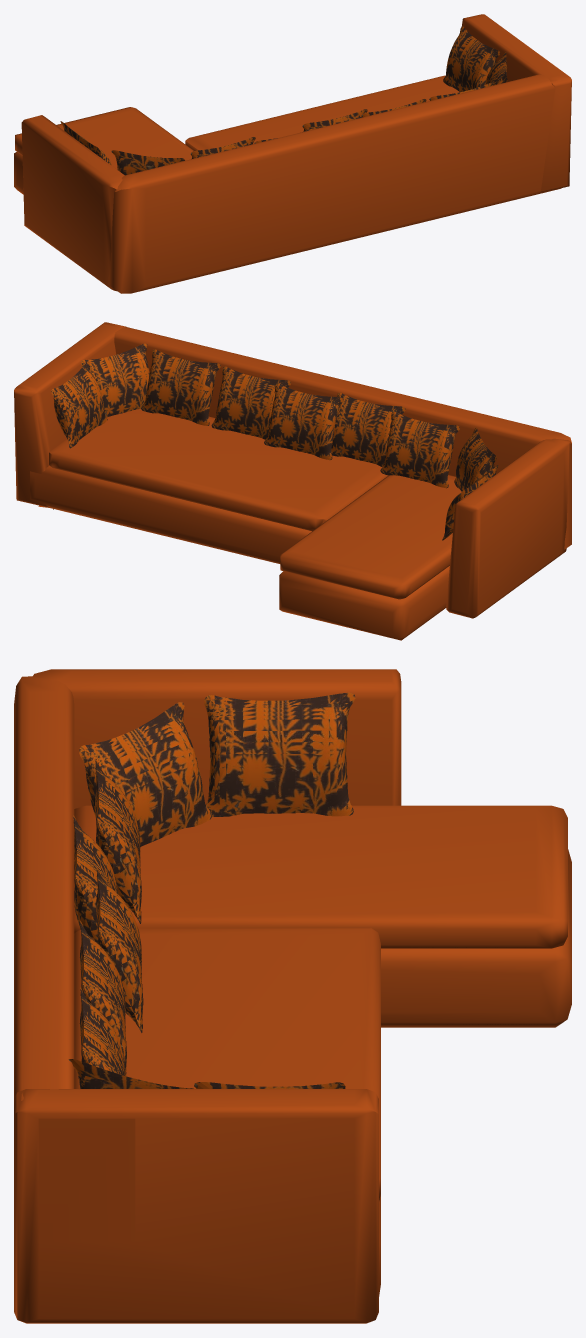
3 renders of one model, top to bottom at view 1: azimuth 30°, elevation 25°; view 2: azimuth 150°, elevation 25°; view 3: azimuth 270°, elevation 25°, orthographic. The views are drawn at different scales.
Visible parts, largest first — view 1: group_5, group_6, group_9, group_11, group_10, group_1, group_18, group_12, group_17, group_15, group_19; view 2: group_11, group_6, group_10, group_5, group_7, group_8, group_9, group_17, group_13, group_15, group_14, group_16 (+4 smaller); view 3: group_9, group_10, group_11, group_5, group_6, group_19, group_8, group_18, group_17, group_15, group_14, group_16 (+2 smaller).
Boxes of the visible parts, left/top/right/bottom form: group_5: left=108, top=74, right=561, bottom=293; group_6: left=21, top=115, right=124, bottom=291; group_9: left=461, top=14, right=571, bottom=192; group_11: left=185, top=75, right=459, bottom=150; group_10: left=15, top=107, right=193, bottom=169; group_1: left=443, top=26, right=500, bottom=91; group_18: left=111, top=150, right=184, bottom=175; group_12: left=485, top=51, right=507, bottom=85; group_17: left=190, top=137, right=255, bottom=158; group_15: left=302, top=109, right=367, bottom=131; group_19: left=60, top=121, right=111, bottom=165; group_11: left=49, top=409, right=388, bottom=531; group_6: left=446, top=438, right=570, bottom=618; group_10: left=280, top=474, right=461, bottom=599; group_5: left=114, top=324, right=571, bottom=549; group_7: left=30, top=465, right=311, bottom=563; group_8: left=279, top=566, right=449, bottom=640; group_9: left=14, top=322, right=126, bottom=507; group_17: left=380, top=411, right=459, bottom=488; group_13: left=141, top=349, right=220, bottom=425; group_15: left=264, top=383, right=343, bottom=460; group_14: left=211, top=366, right=290, bottom=439; group_16: left=331, top=392, right=405, bottom=466; group_9: left=14, top=1089, right=378, bottom=1323; group_10: left=74, top=805, right=567, bottom=948; group_11: left=74, top=927, right=380, bottom=1200; group_5: left=14, top=676, right=74, bottom=1100; group_6: left=33, top=669, right=401, bottom=808; group_19: left=204, top=692, right=355, bottom=816; group_8: left=381, top=849, right=571, bottom=1027; group_18: left=79, top=702, right=211, bottom=846; group_17: left=94, top=758, right=141, bottom=923; group_15: left=96, top=868, right=143, bottom=1032; group_14: left=80, top=921, right=126, bottom=1075; group_16: left=73, top=815, right=117, bottom=942.
Size of the model in its own units: 122 by 64.4 by 28.1.
4 materials, 1 textured.
